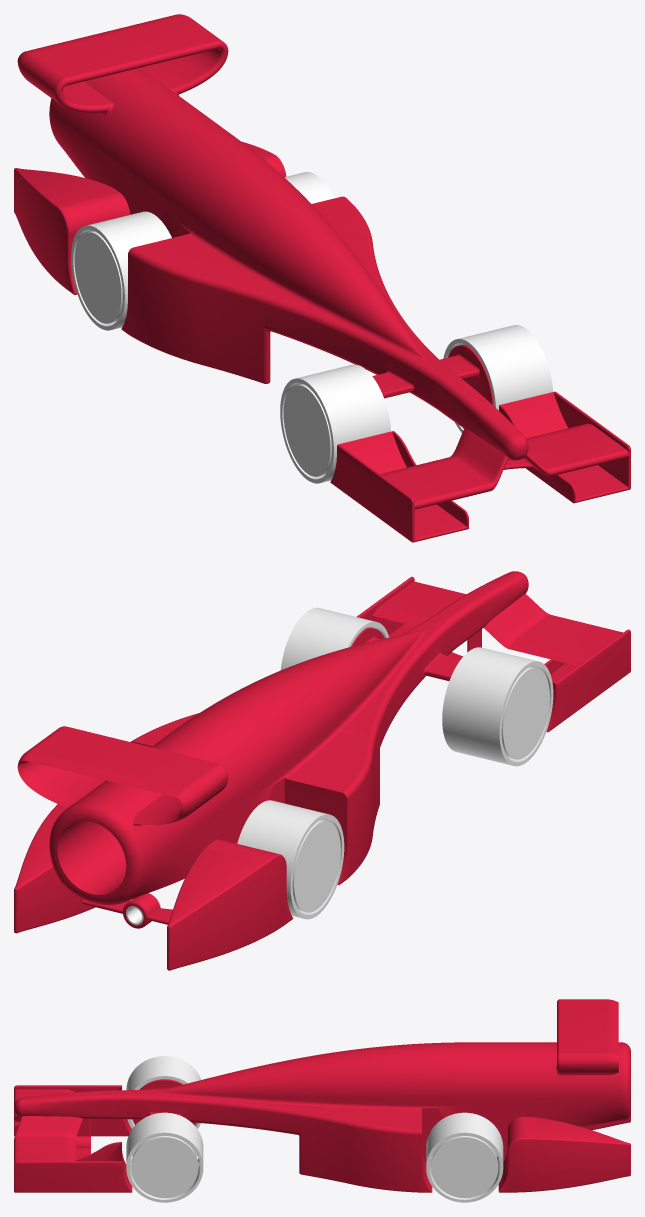
3 views of the same model, one above another, from view 1: azimuth 30°, elevation 25°; view 2: azimuth 150°, elevation 25°; view 3: azimuth 270°, elevation 25° (orthographic). The views are drawn at different scales.
Parts seen in each view (by area): view 1: 10 P4 Assembly, 10 P4 Assembly.001, 10 P4 Assembly.004, 10 P4 Assembly.002, 10 P4 Assembly.007, 10 P4 Assembly.003; view 2: 10 P4 Assembly, 10 P4 Assembly.001, 10 P4 Assembly.004, 10 P4 Assembly.002; view 3: 10 P4 Assembly, 10 P4 Assembly.002, 10 P4 Assembly.003, 10 P4 Assembly.001, 10 P4 Assembly.008.
Part boxes in pixels (x1=…): 10 P4 Assembly: x1=14, y1=14, x2=630, y2=542; 10 P4 Assembly.001: x1=280, y1=364, x2=390, y2=483; 10 P4 Assembly.004: x1=71, y1=211, x2=171, y2=330; 10 P4 Assembly.002: x1=443, y1=325, x2=552, y2=432; 10 P4 Assembly.007: x1=448, y1=344, x2=493, y2=428; 10 P4 Assembly.003: x1=284, y1=172, x2=333, y2=203; 10 P4 Assembly: x1=14, y1=571, x2=630, y2=970; 10 P4 Assembly.001: x1=442, y1=647, x2=553, y2=766; 10 P4 Assembly.004: x1=237, y1=800, x2=344, y2=919; 10 P4 Assembly.002: x1=280, y1=607, x2=388, y2=670; 10 P4 Assembly: x1=14, y1=999, x2=630, y2=1192; 10 P4 Assembly.002: x1=126, y1=1112, x2=203, y2=1202; 10 P4 Assembly.003: x1=426, y1=1112, x2=503, y2=1202; 10 P4 Assembly.001: x1=126, y1=1056, x2=201, y2=1128; 10 P4 Assembly.008: x1=132, y1=1079, x2=195, y2=1124.
Size of the model in its own units: 11.65 by 9.75 by 39.55.
